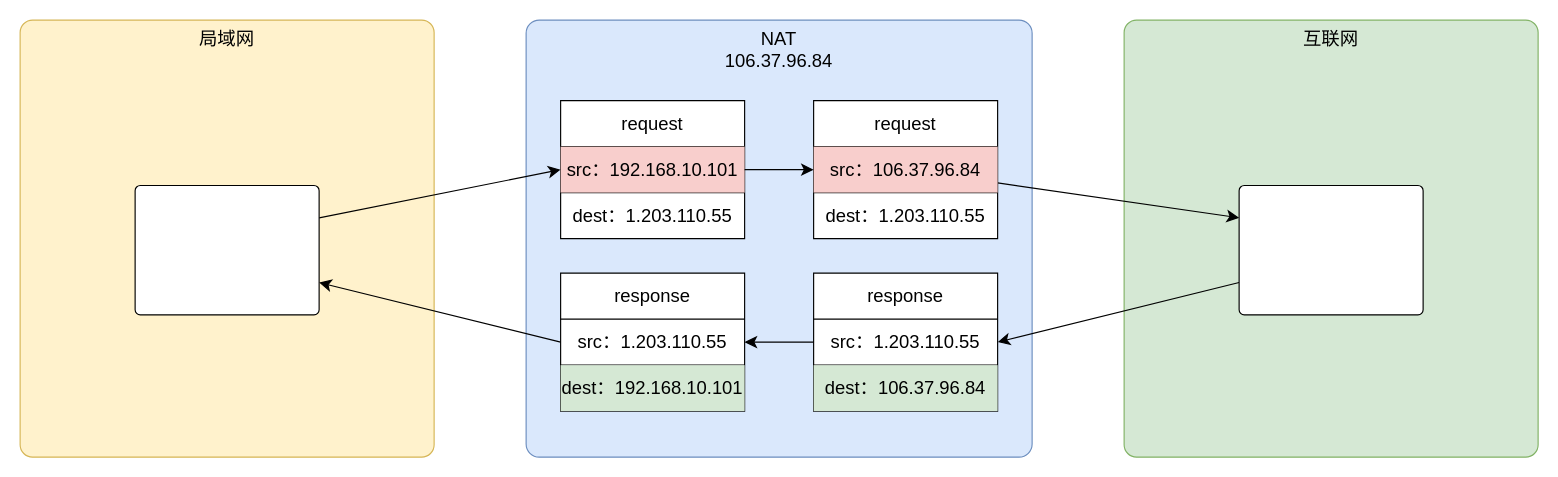
Image size: 1558x477. Some labels were removed from this diagram. Here are the shapes that lost their labels. From the top down, the centre of each, then its label:
(x=226, y=249): client-01 192.168.10.101
(x=1330, y=249): server 1.203.110.55
